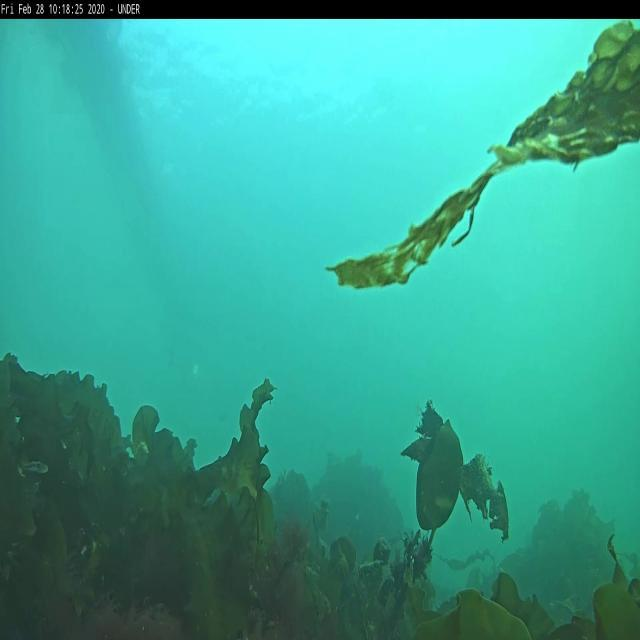fish: (23, 459, 52, 474)
